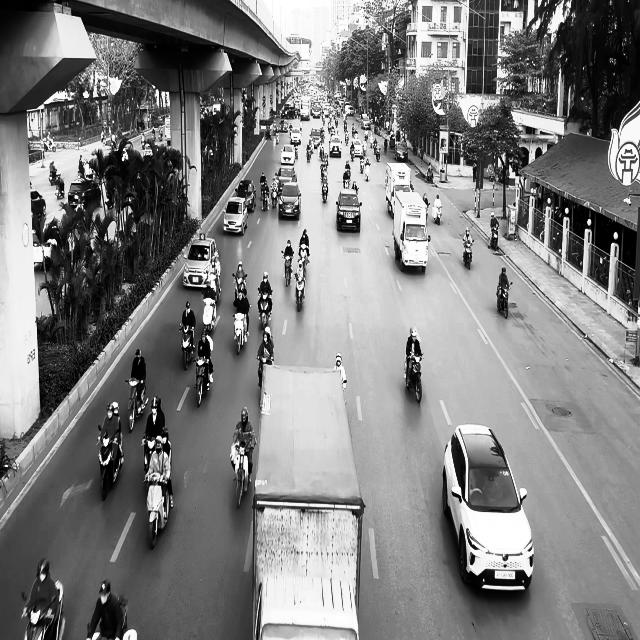car: (442, 423, 534, 593), (183, 233, 220, 289), (336, 188, 362, 232), (223, 196, 248, 235), (278, 181, 302, 220), (236, 178, 256, 212), (31, 190, 46, 218), (395, 142, 408, 161)
motorbike: (21, 580, 66, 640), (143, 473, 172, 549), (87, 597, 137, 639), (98, 425, 124, 501), (231, 441, 253, 508), (126, 378, 149, 432), (404, 353, 423, 403), (195, 356, 212, 407), (179, 324, 195, 370), (233, 311, 249, 354), (258, 288, 273, 329), (256, 354, 274, 388), (497, 281, 512, 318), (202, 296, 217, 332), (282, 250, 294, 287), (295, 273, 306, 311), (463, 238, 474, 270), (488, 224, 499, 252), (321, 172, 329, 202), (433, 204, 442, 224)
truck: (252, 362, 366, 639)
